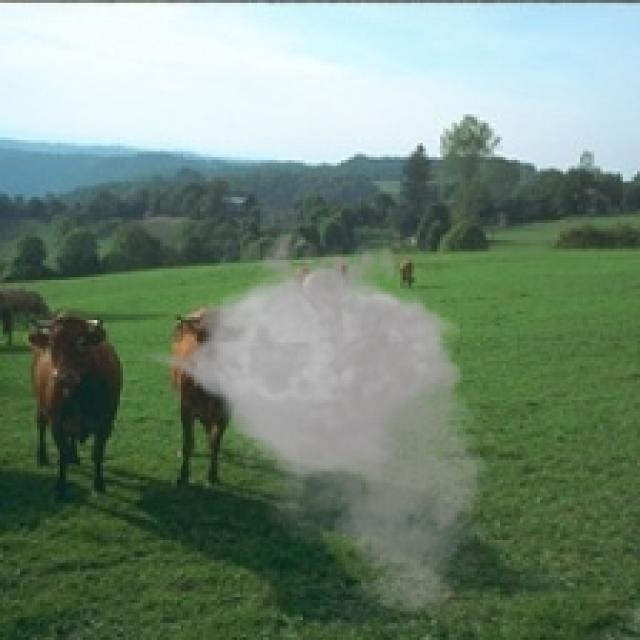Smoke: (137, 220, 500, 620)
